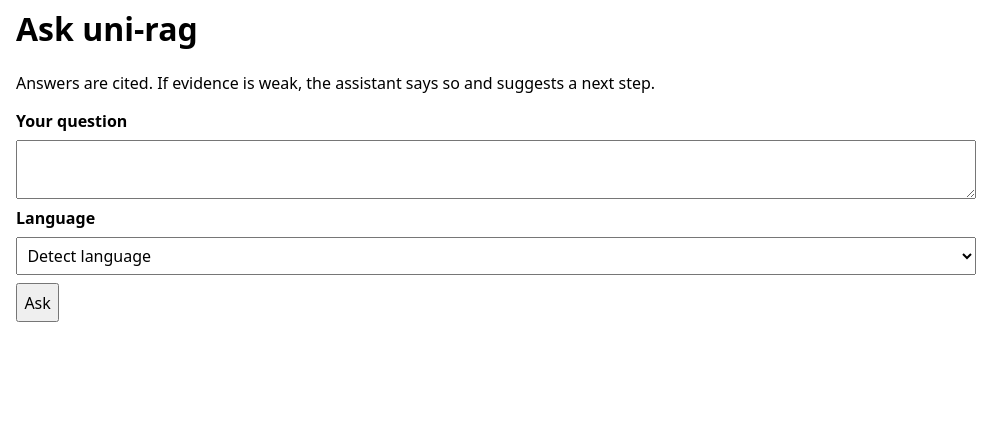
it: ChatPage › surfaces a typed schema error with no partial render for an invalid stream
Step 1. Type "What is the fee?" into the text box labelled "Your question" → (496,169), box top-left (16, 140), bottom-right (976, 199)
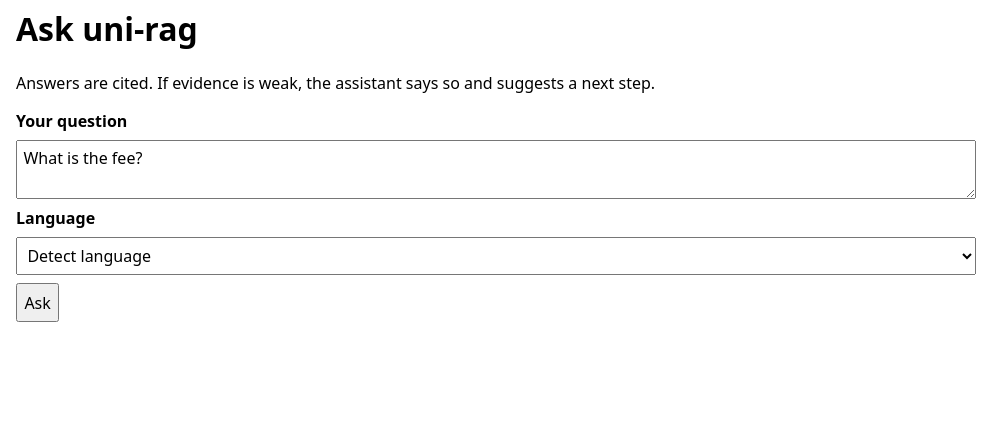
Step 2. Click the button "Ask" → (38,303), box top-left (16, 283), bottom-right (59, 322)
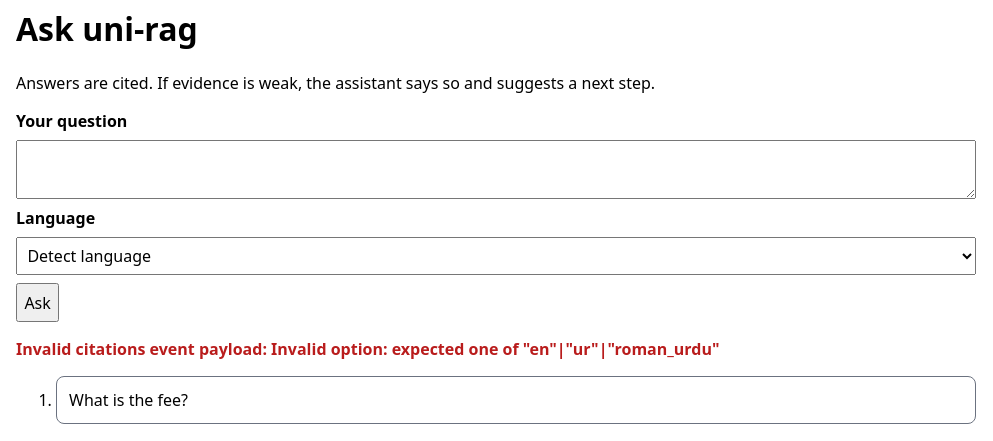
Check: the message shows "Invalid citations event", box top-left (16, 338), bottom-right (720, 360)
